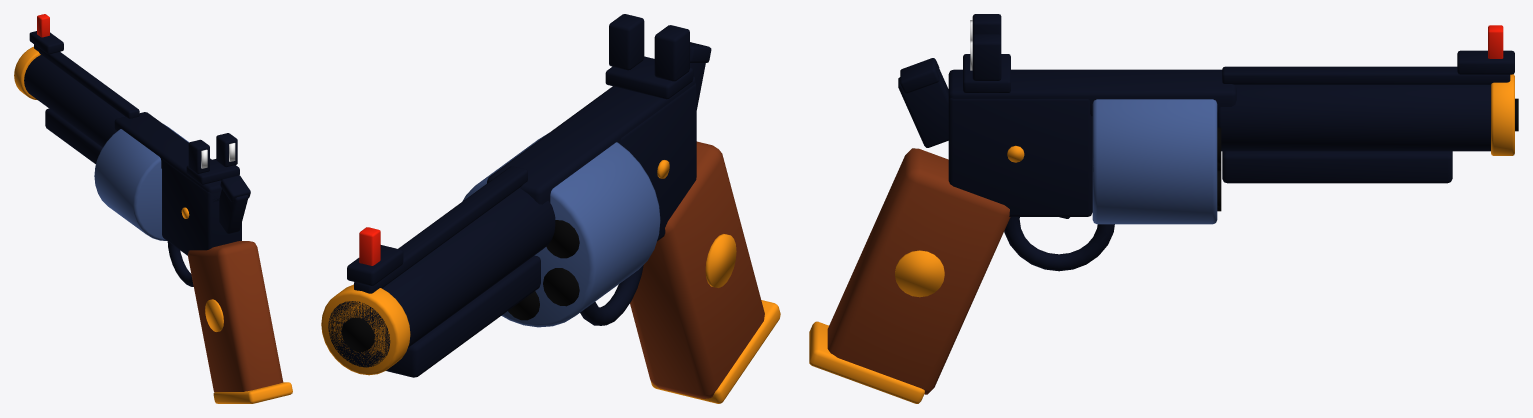
File: Python_Revolver.obj
3 views of the same model, side by side, from view 1: azimuth 30°, elevation 25°; view 2: azimuth 150°, elevation 25°; view 3: azimuth 270°, elevation 25° (orthographic). The views are drawn at different scales.
Parts seen in each view (by area): view 1: Python_Revolver; view 2: Python_Revolver; view 3: Python_Revolver.
Part boxes in pixels (x1,y1,x2,y2): Python_Revolver: [14, 14, 292, 403]; Python_Revolver: [321, 14, 780, 403]; Python_Revolver: [809, 14, 1518, 403].
Size of the model in its own units: 1.56 by 4.16 by 7.39.
